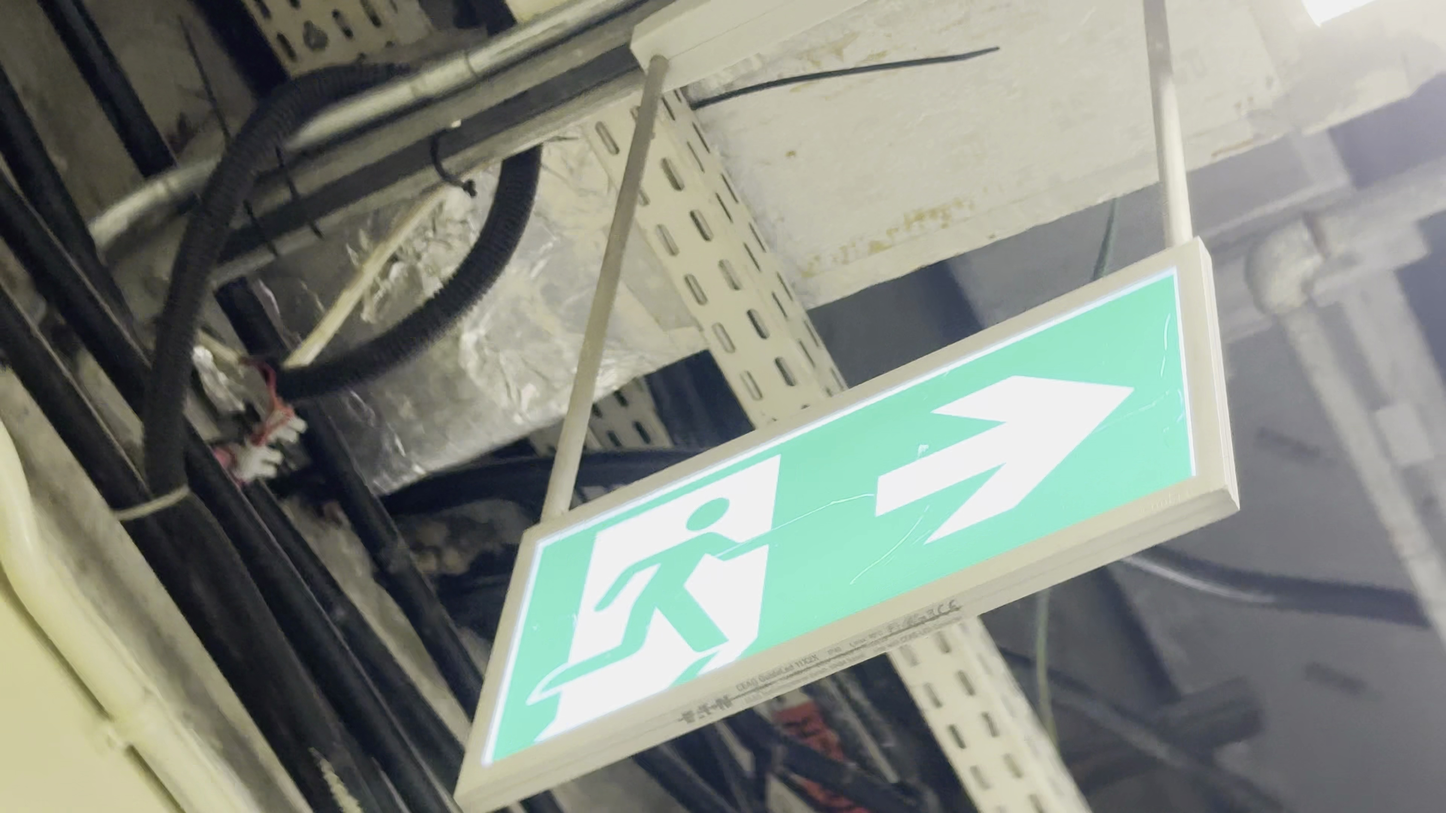emergency_exit: (450, 234, 1242, 809)
